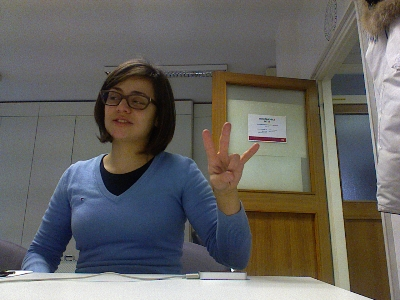观音: (200, 120, 260, 194)
